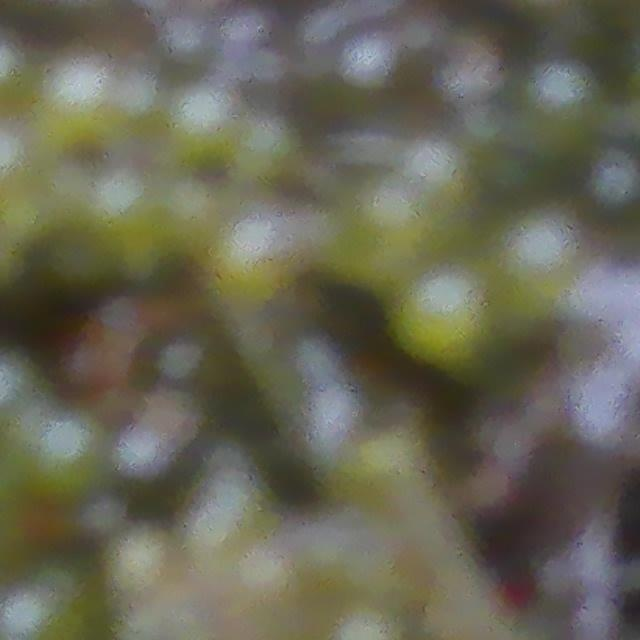SeaGrape: (390, 266, 496, 370), (340, 19, 425, 119), (502, 208, 577, 281), (166, 84, 238, 160), (527, 60, 592, 120), (589, 152, 640, 210), (405, 139, 459, 192)
